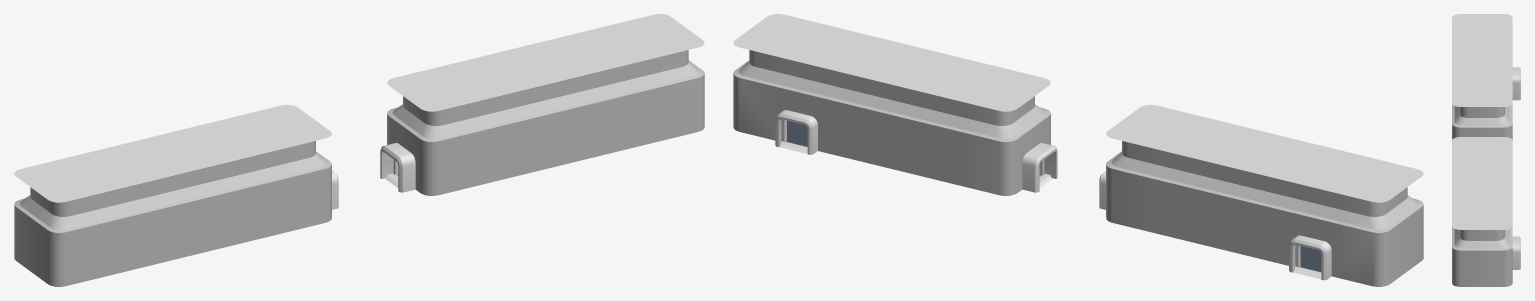
File: SM_Ship_Hall.fbx
3 views of the same model, side by side, from view 1: azimuth 30°, elevation 25°; view 2: azimuth 150°, elevation 25°; view 3: azimuth 270°, elevation 25° (orthographic). The views are drawn at different scales.
Visible parts, largest first — view 1: SM_Ship_Hall; view 2: SM_Ship_Hall; view 3: SM_Ship_Hall.
Part boxes in pixels (x1,y1,x2,y2): SM_Ship_Hall: (14, 14, 704, 286); SM_Ship_Hall: (733, 14, 1423, 286); SM_Ship_Hall: (1452, 14, 1520, 286).
Size of the model in its own units: 13002 by 1603 by 1752.
